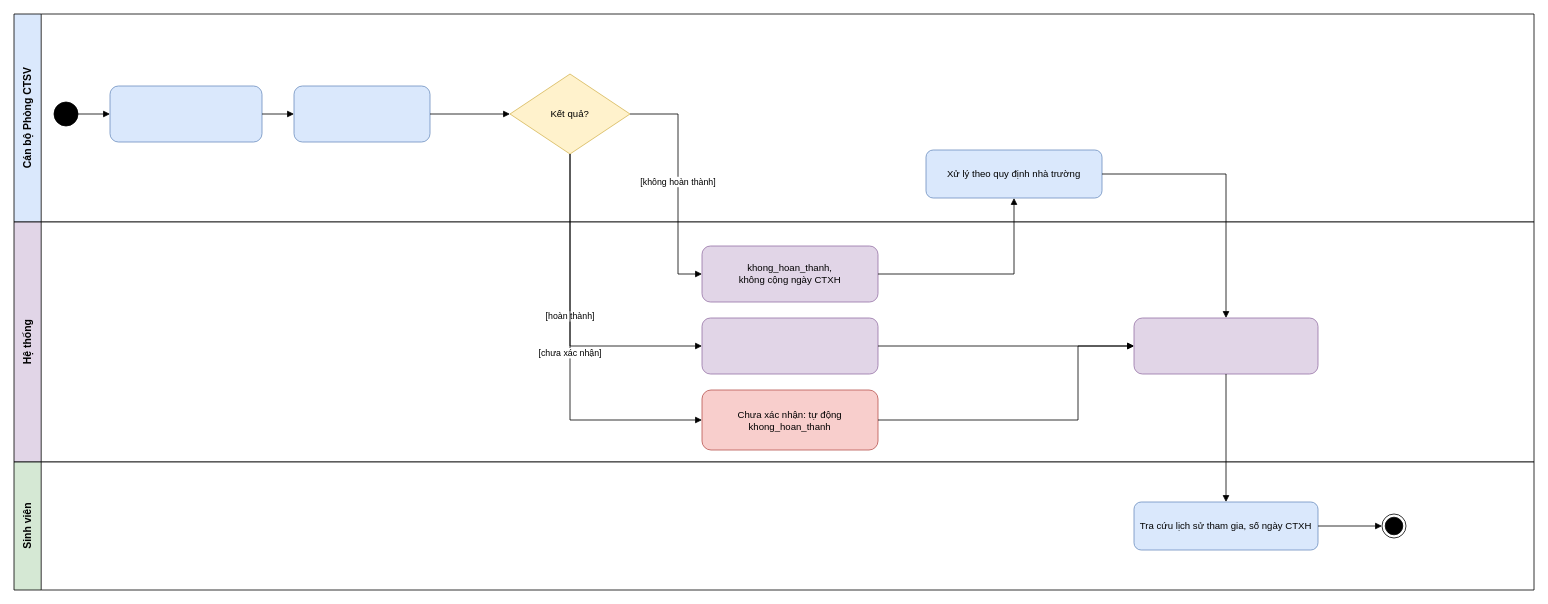
Some shapes in this 1548 by 604 pixel diagram are drawn without their labels. Each missing label, with the centre of its shape:
"hoan_thanh, cộng số ngày CTXH" goes at [789,345].
"Lưu kết quả (CHI_TIET_DANG_KY)" goes at [1225,345].
"Xem DS sinh viên đã đăng ký (hoạt động ket_thuc)" goes at [185,113].
"Đánh giá từng sinh viên" goes at [361,113].
